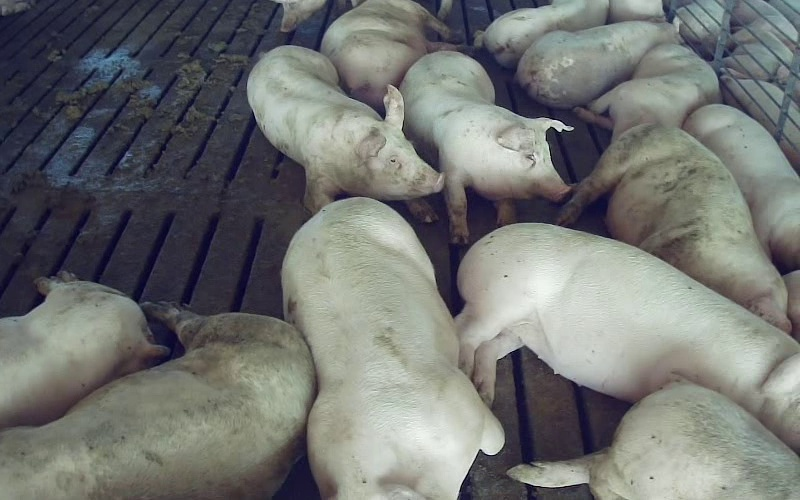pig: (282, 198, 501, 499), (0, 303, 315, 499), (558, 124, 788, 331), (507, 380, 799, 499), (400, 51, 571, 243), (0, 272, 169, 428), (683, 104, 799, 272), (516, 21, 679, 108), (575, 44, 721, 139)
